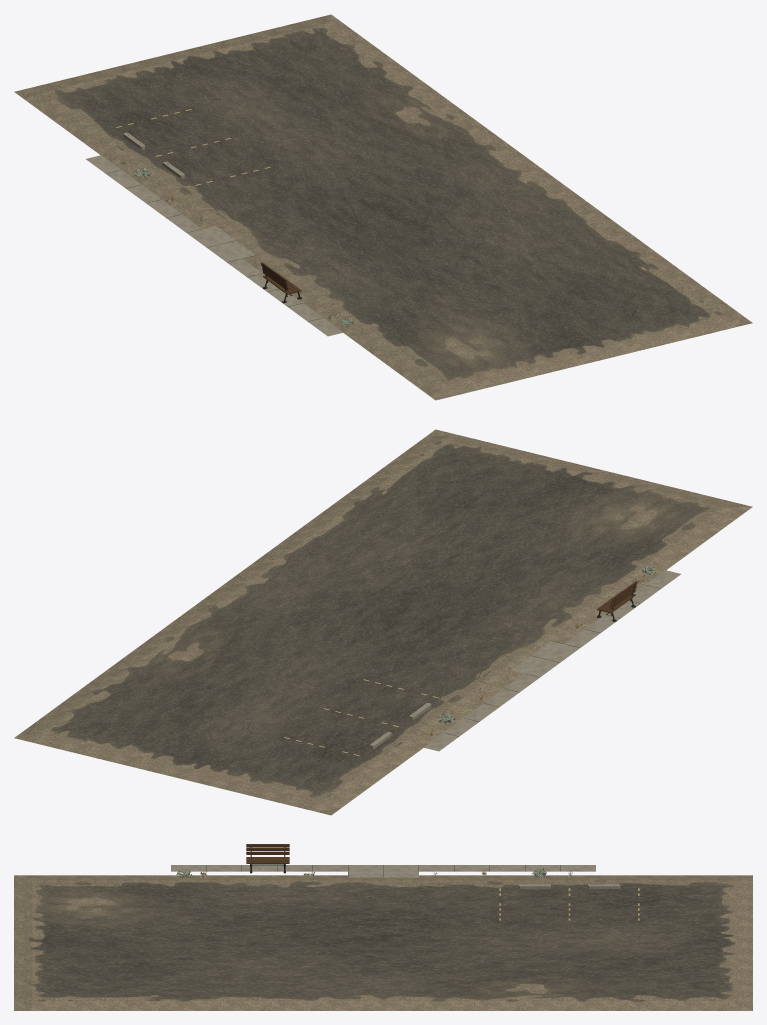
File: SM_Mesa_Parking_LOD2.fbx
The picture shows the model from 3 angles, top to bottom: view 1: azimuth 30°, elevation 25°; view 2: azimuth 150°, elevation 25°; view 3: azimuth 270°, elevation 25°; orthographic projection. The views are drawn at different scales.
Visible parts, largest first — view 1: SM_Mesa_Parking_LOD2; view 2: SM_Mesa_Parking_LOD2; view 3: SM_Mesa_Parking_LOD2.
Part boxes in pixels (left/top/right/bottom): SM_Mesa_Parking_LOD2: left=14, top=14, right=752, bottom=400; SM_Mesa_Parking_LOD2: left=14, top=429, right=752, bottom=815; SM_Mesa_Parking_LOD2: left=14, top=844, right=752, bottom=1010.
Size of the model in its own units: 14.7 by 32 by 1.14.
